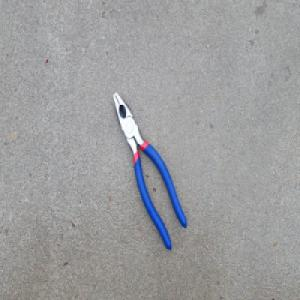Pliers: (113, 89, 188, 251)
